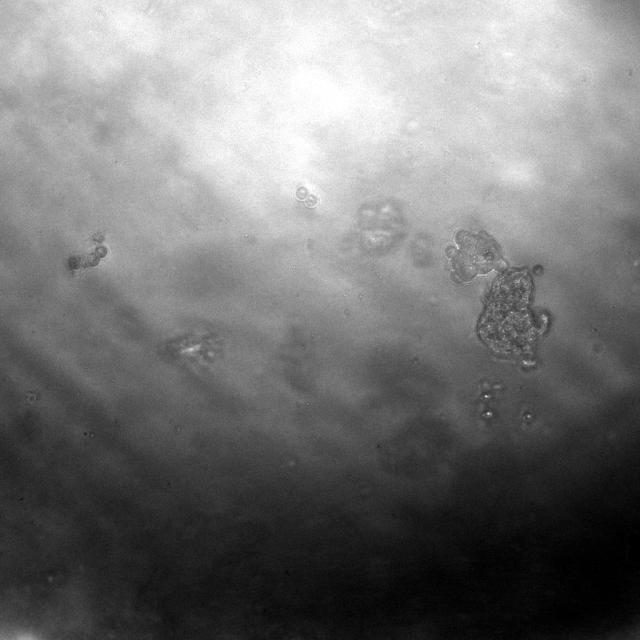organoid: (444, 229, 551, 369), (68, 230, 109, 271), (294, 185, 318, 208), (531, 264, 544, 276)
